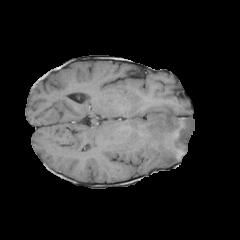glioma: (133, 110, 194, 167)
